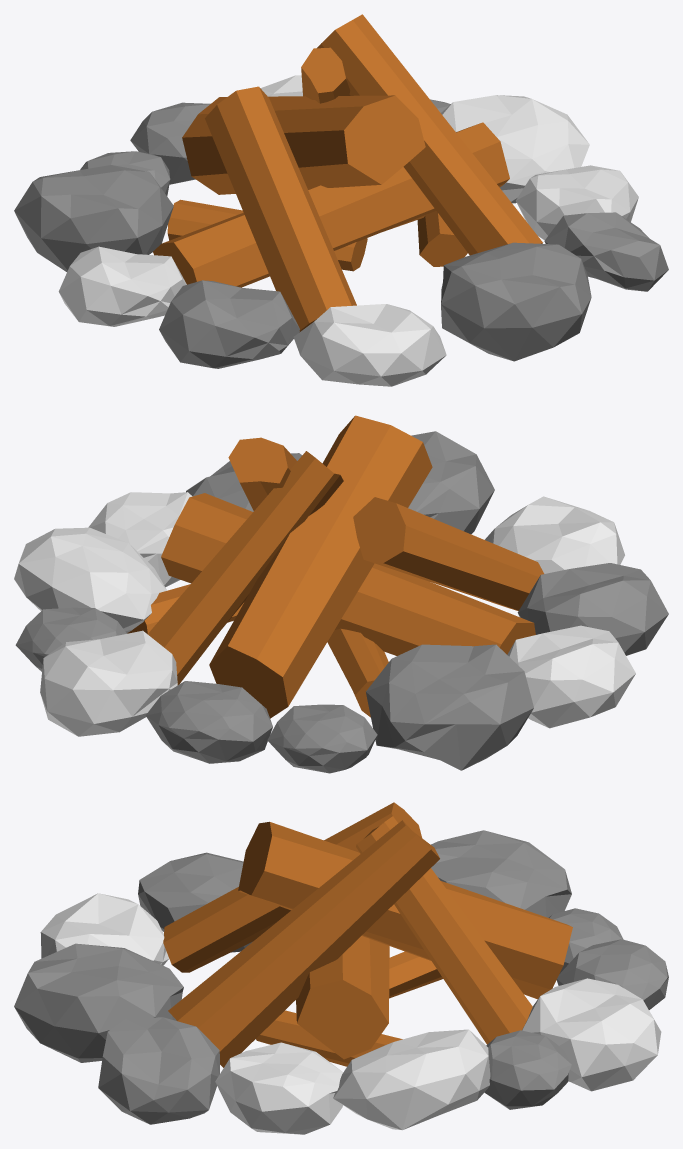
Rendered from campfire.fbx.
3 views of the same model, one above another, from view 1: azimuth 30°, elevation 25°; view 2: azimuth 150°, elevation 25°; view 3: azimuth 270°, elevation 25° (orthographic). The views are drawn at different scales.
Visible parts, largest first — view 1: Log 4, Rock 8, Log 3, Log 2, Log 1, Rock 5, Rock 3, Rock 6, Rock 12, Rock 7, Rock 9, Rock 4 (+6 smaller); view 2: Log 2, Rock 5, Log 1, Log 5, Rock 11, Log 4, Rock 12, Rock 7, Rock 6, Rock 1, Rock 3, Rock 2 (+7 smaller); view 3: Log 3, Log 2, Rock 8, Rock 12, Rock 9, Log 5, Rock 11, Rock 4, Log 1, Rock 5, Log 4, Rock 3 (+6 smaller).
Part boxes in pixels (<box>): Log 4: <box>205,86,356,332</box>; Rock 8: <box>441,242,591,361</box>; Log 3: <box>317,14,542,255</box>; Log 2: <box>182,95,425,194</box>; Log 1: <box>153,122,509,287</box>; Rock 5: <box>14,165,173,271</box>; Rock 3: <box>293,304,446,386</box>; Rock 6: <box>159,280,299,368</box>; Rock 12: <box>441,95,589,203</box>; Rock 7: <box>58,246,186,326</box>; Rock 9: <box>544,212,668,291</box>; Rock 4: <box>516,165,638,240</box>; Log 2: <box>209,415,432,718</box>; Rock 5: <box>366,644,533,770</box>; Log 1: <box>161,493,535,655</box>; Log 5: <box>147,451,343,684</box>; Rock 11: <box>40,630,177,736</box>; Log 4: <box>353,497,544,610</box>; Rock 12: <box>14,527,166,633</box>; Rock 7: <box>507,625,635,728</box>; Rock 6: <box>517,563,668,655</box>; Rock 1: <box>145,681,272,763</box>; Rock 3: <box>485,496,624,573</box>; Rock 2: <box>267,704,377,773</box>; Log 3: <box>168,820,439,1067</box>; Log 2: <box>238,821,572,999</box>; Rock 8: <box>14,943,183,1062</box>; Rock 12: <box>333,1029,490,1130</box>; Rock 9: <box>98,1017,219,1124</box>; Log 5: <box>356,816,532,1044</box>; Rock 11: <box>522,978,661,1091</box>; Rock 4: <box>215,1042,343,1134</box>; Log 1: <box>296,936,389,1059</box>; Rock 5: <box>431,830,571,917</box>; Log 4: <box>163,802,421,972</box>; Rock 3: <box>40,893,168,965</box>.
Bounding box in the file's own units: 232 × 88.87 × 243.
